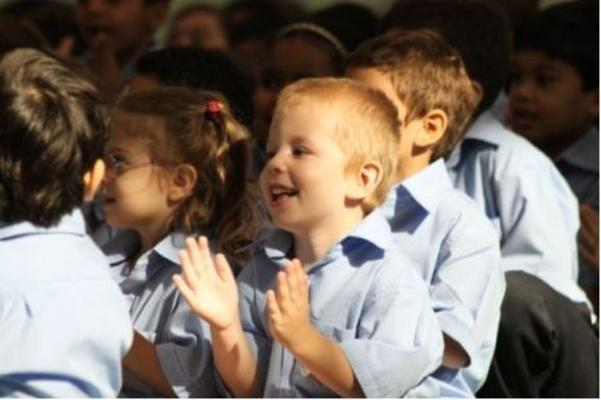person: (172, 73, 449, 400)
